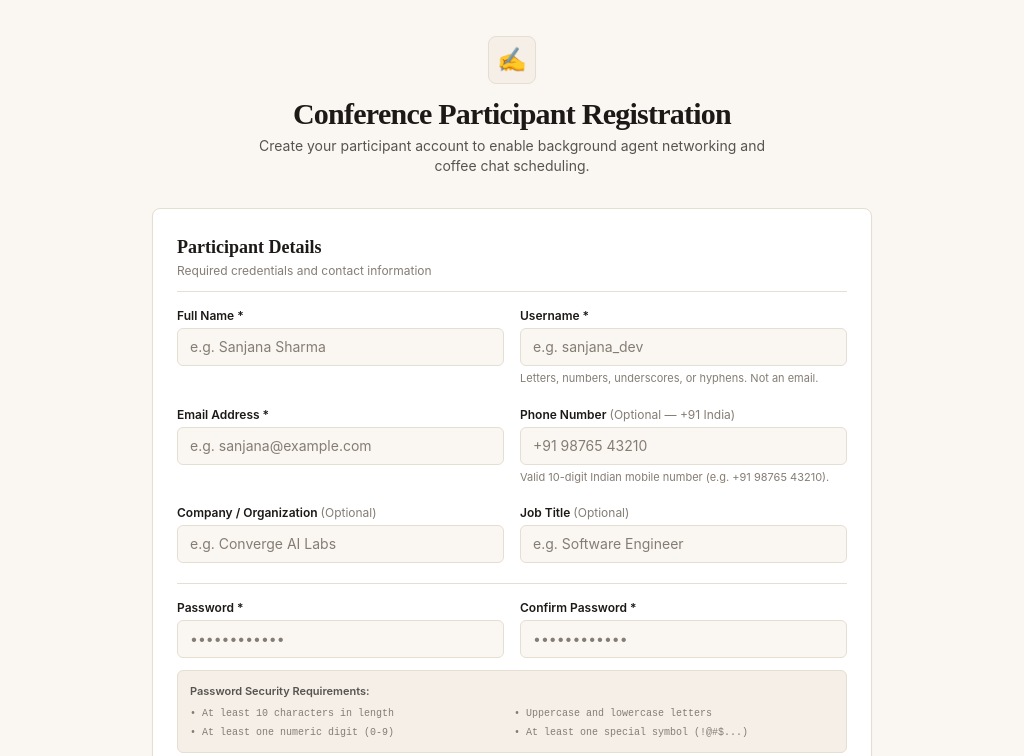
Test case: Register Component › validates proper email address format
Type "Sanjana Sharma" into the field labelled "Full Name *" at (340, 347), box [177,328,504,366]
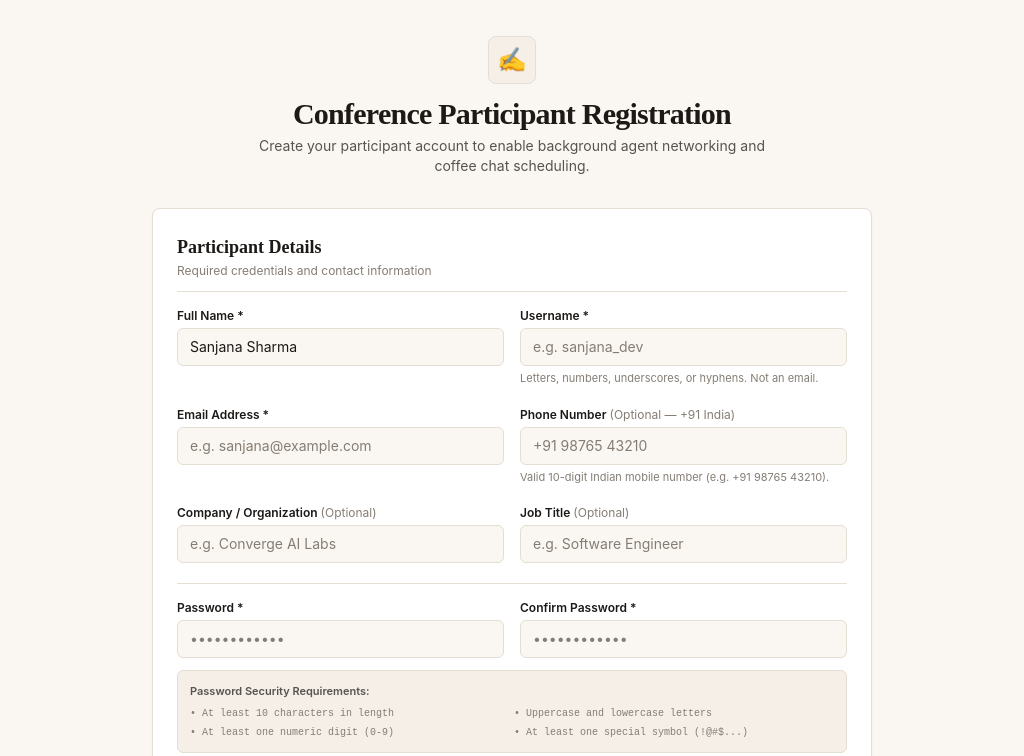
Type "sanjana_m" into the field labelled "Username *" at (684, 347), box [520,328,847,366]
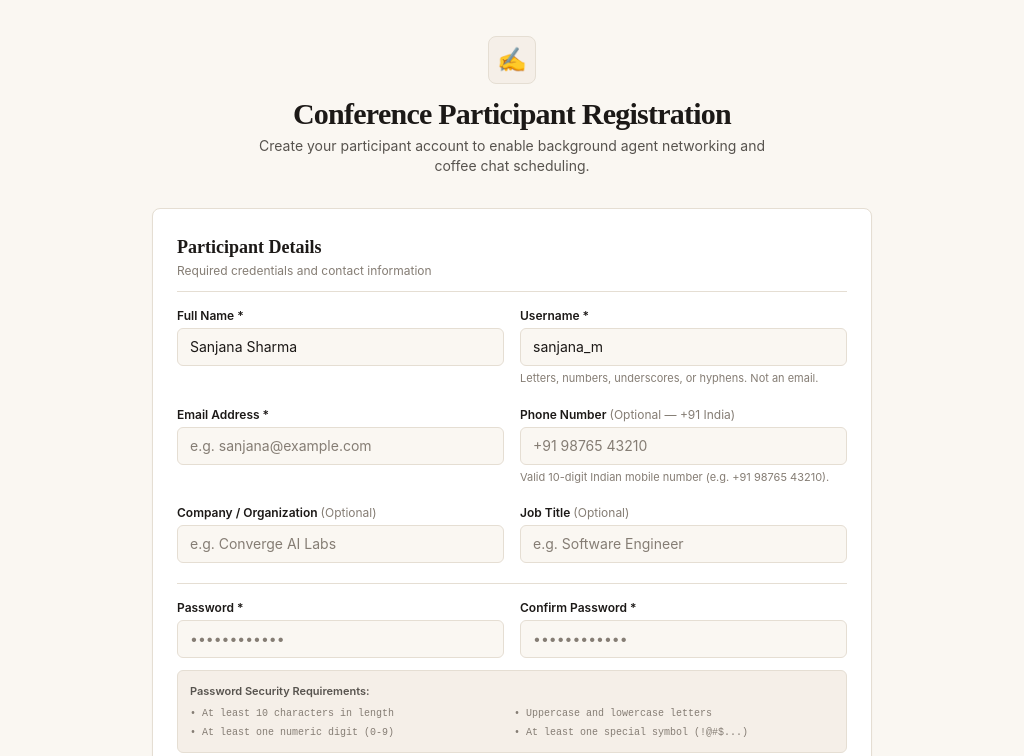
Type "invalid-email-format" into the field labelled "Email Address *" at (340, 446), box [177,426,504,464]
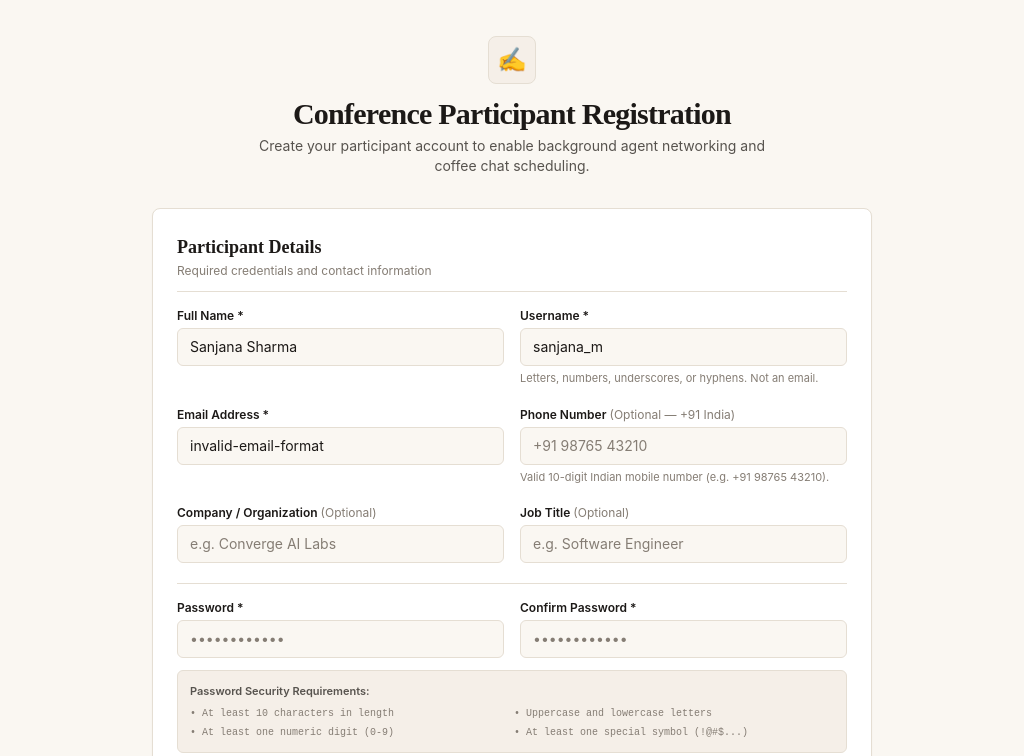
Type "ValidPassword123!" into the password field labelled "Password *" at (340, 639), box [177,620,504,658]
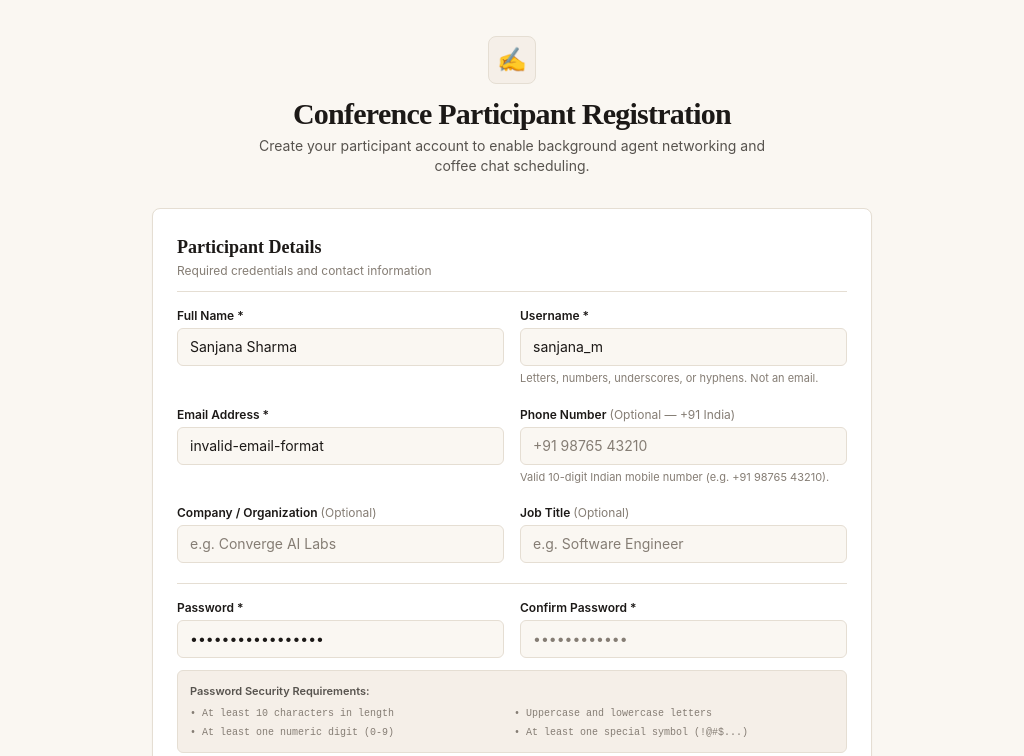
Type "ValidPassword123!" into the password field labelled "Confirm Password *" at (684, 639), box [520,620,847,658]
(page scrolled)
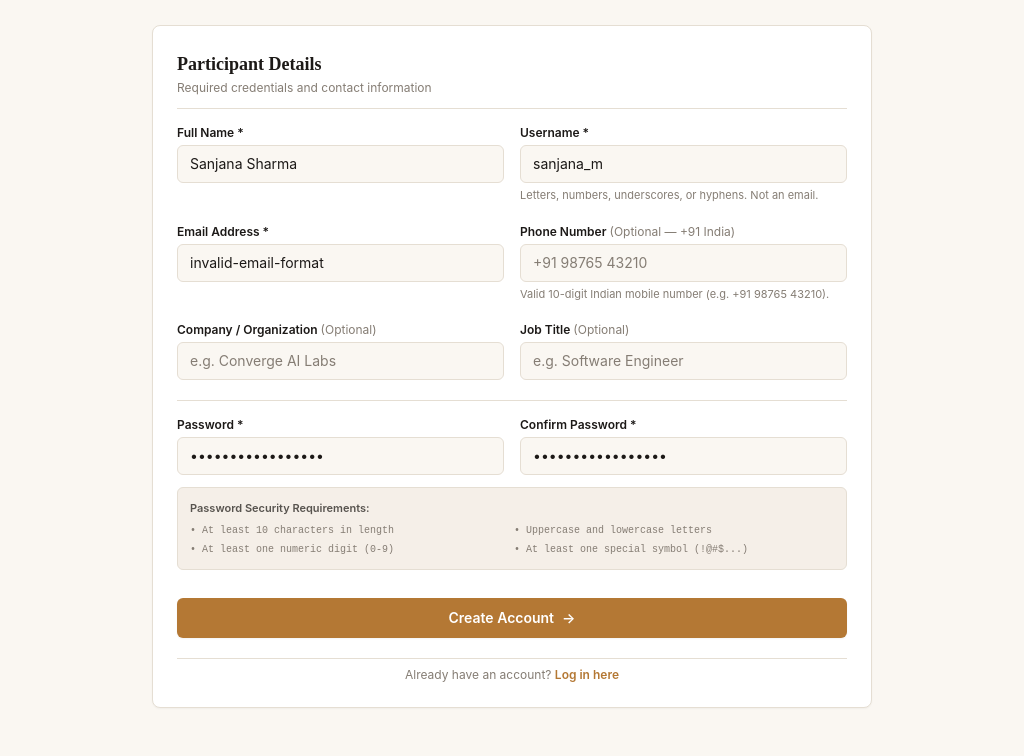
Click the button "Create Account →" at (512, 618), box [177,598,847,638]
(page scrolled)
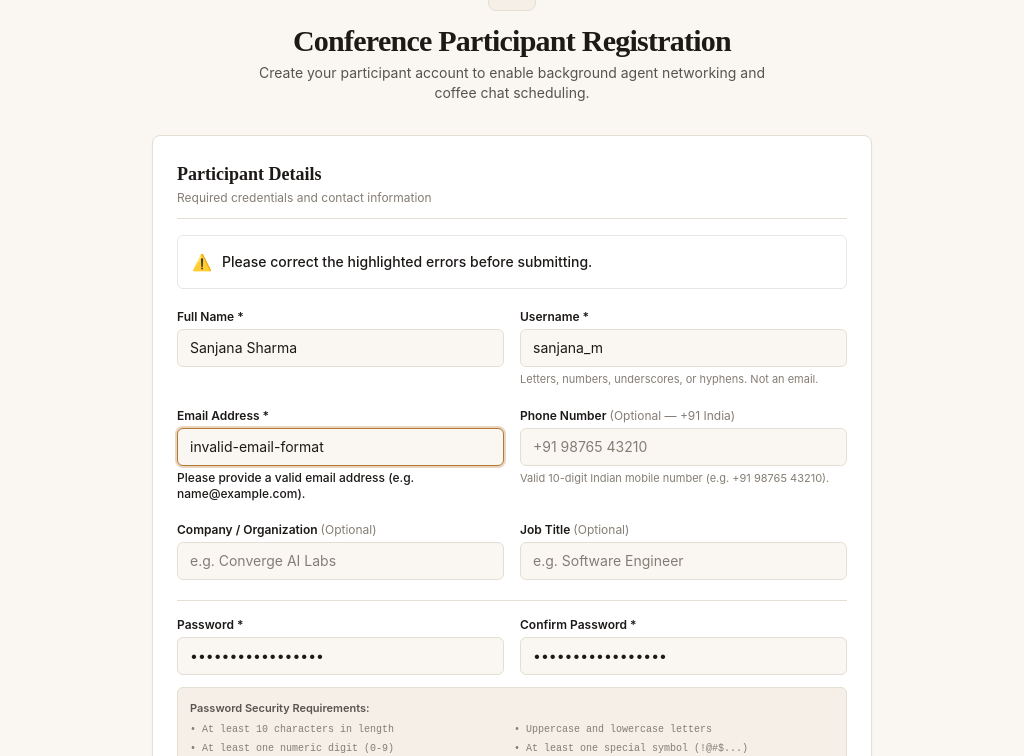
Expected: the text "Please provide a valid email address" is shown, [177,470,414,500]
